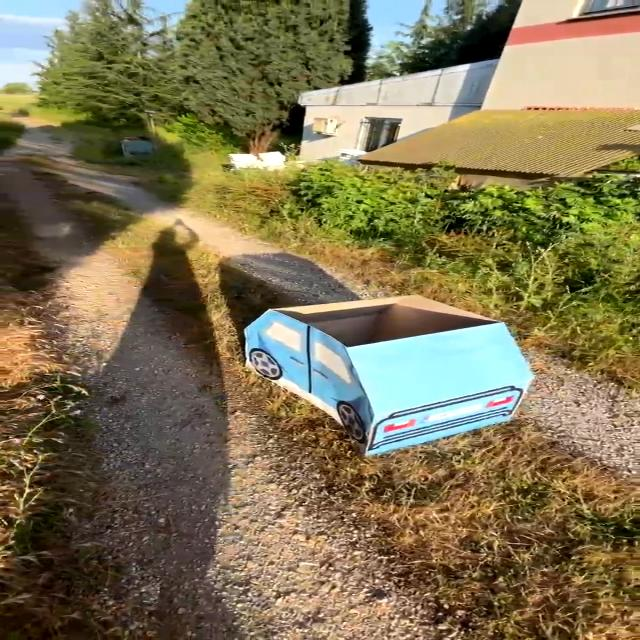blue_car: (206, 266, 582, 480)
